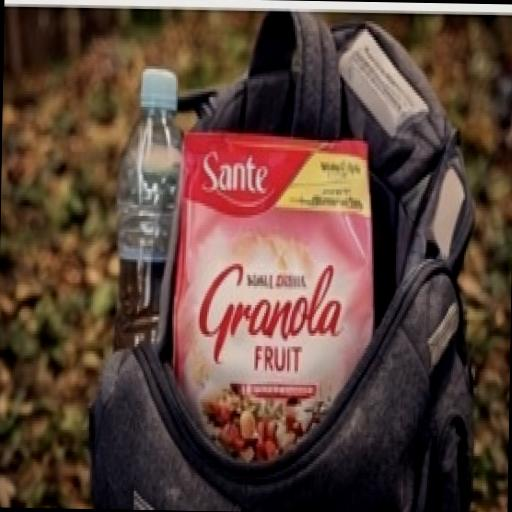granola: (132, 96, 406, 500)
